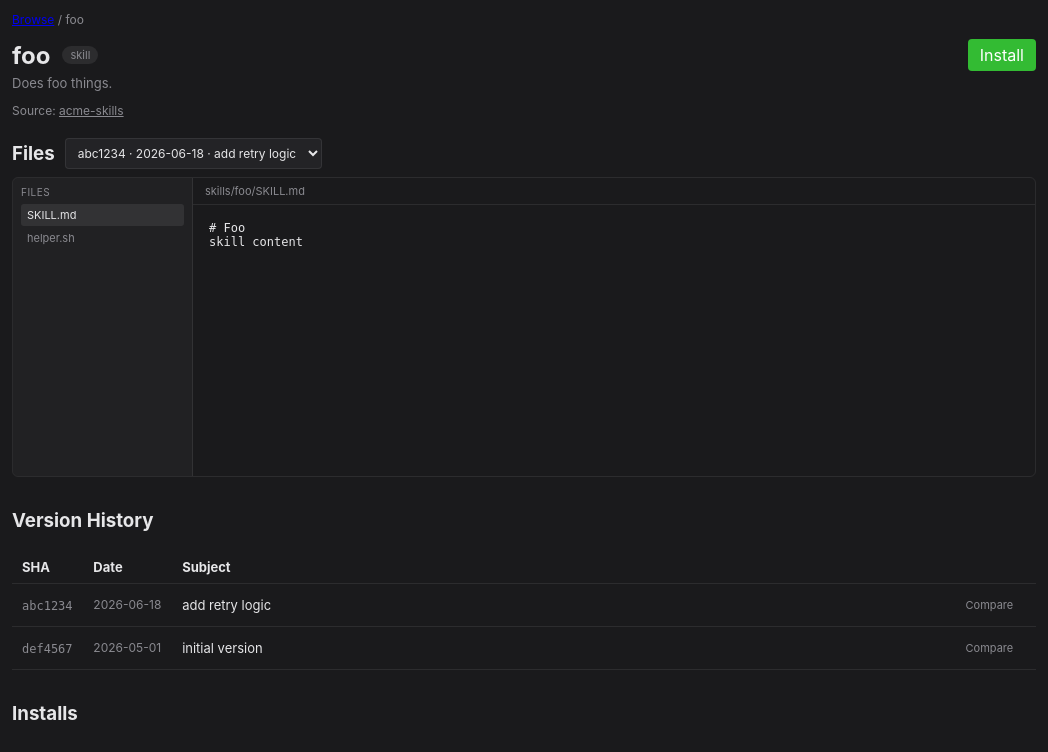
Test: ArtifactDetail — Version History › shows Cancel on first row and 'Compare with this' on others after clicking Compare
The image size is (1048, 752).
Step 1. Click the button "Compare" in the row of "2026-06-18" → (989, 605), box x1=954 y1=592 x2=1025 y2=618
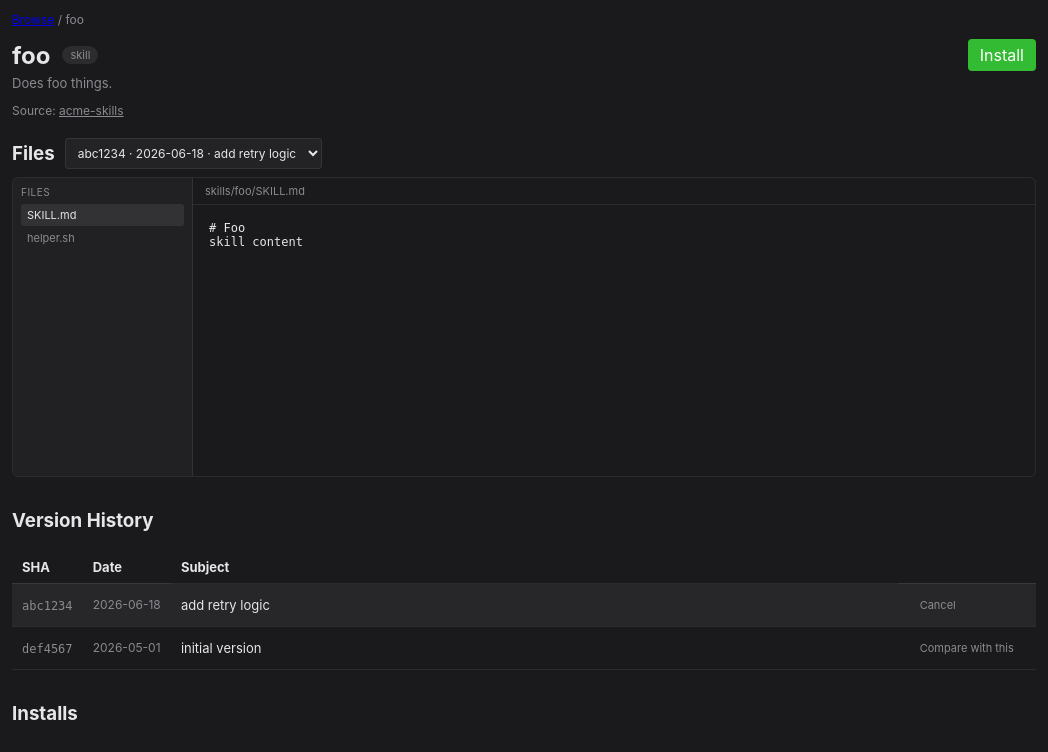
Check: the button "Cancel" is shown, box x1=908 y1=592 x2=968 y2=618
Check: the button "Compare with this" is shown, box x1=908 y1=635 x2=1026 y2=661
